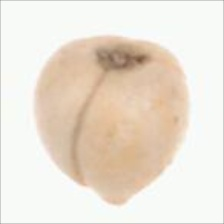L4: (33, 35, 189, 204)
